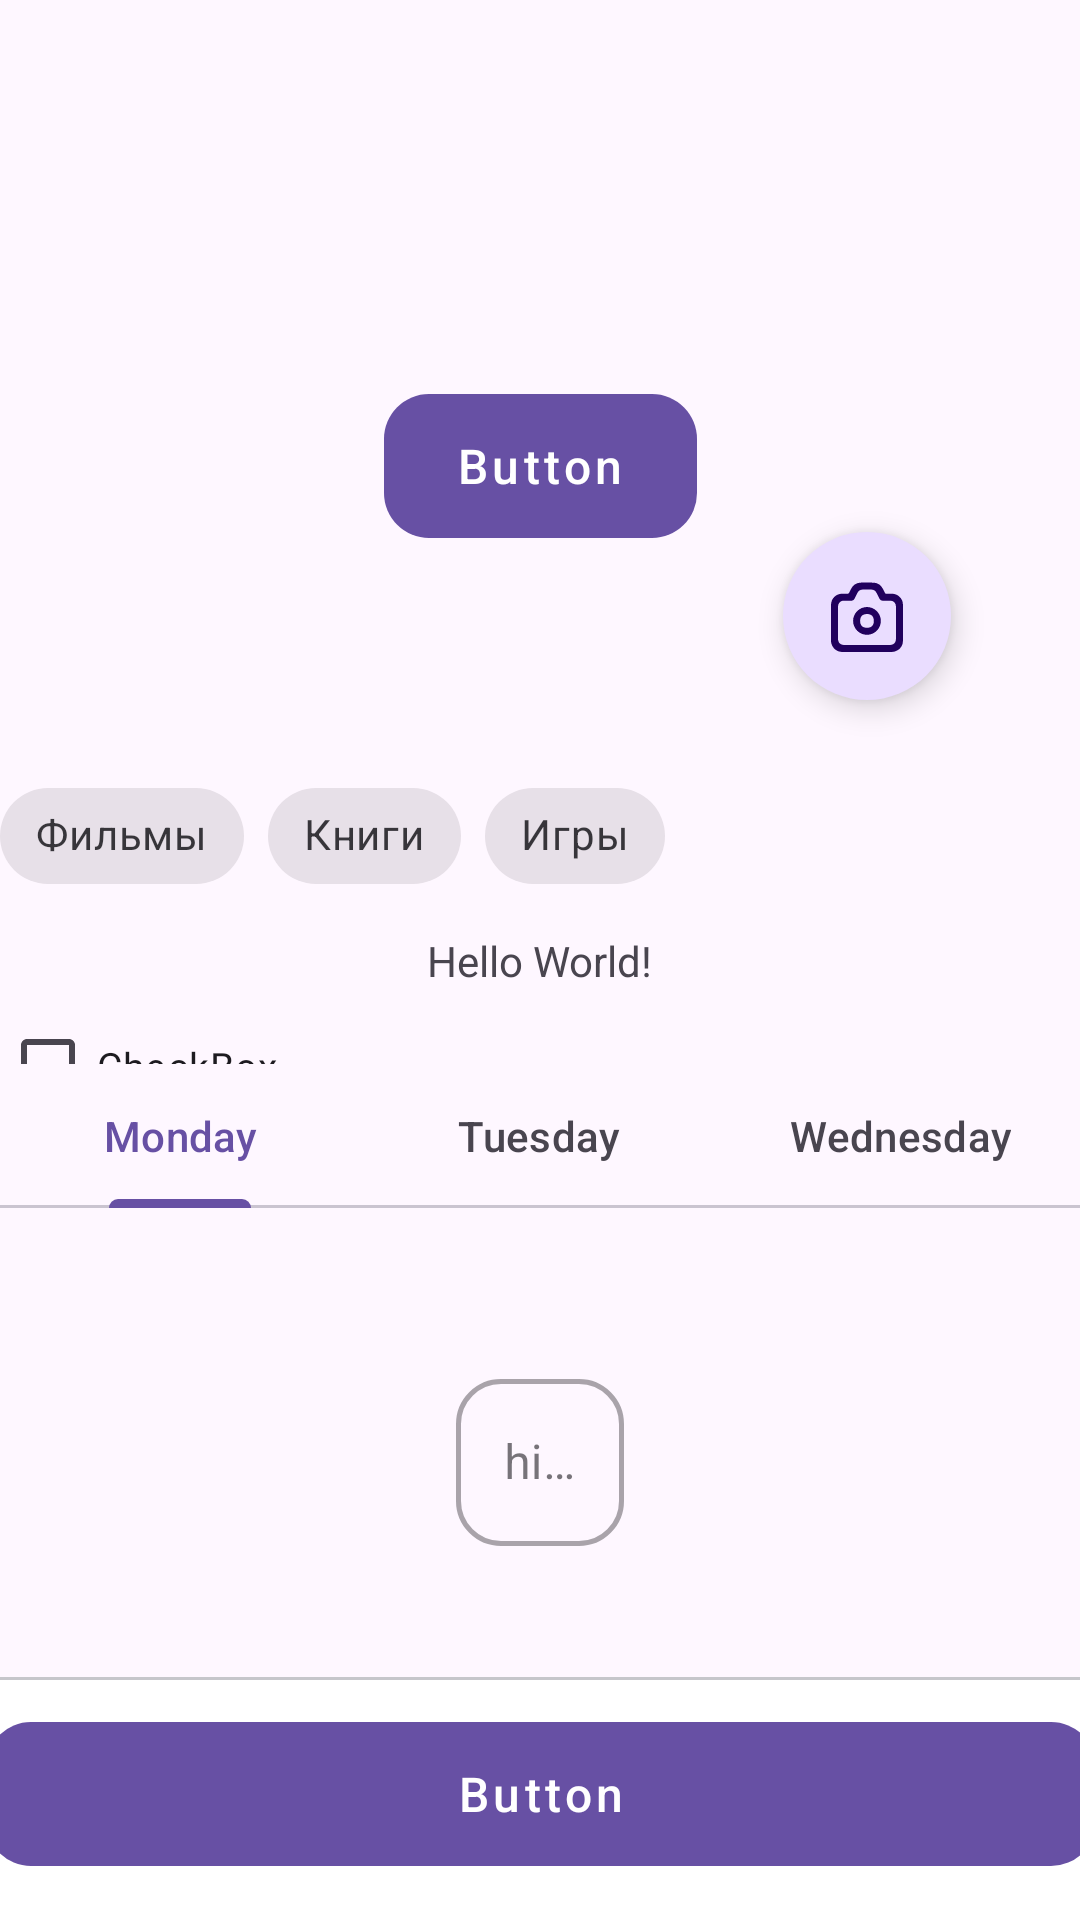

Locate icon controls on the screen. Image size 1080px×1920px, boxes as detection(x1, y1, x2, y2).
camera: detection(783, 532, 951, 700)
